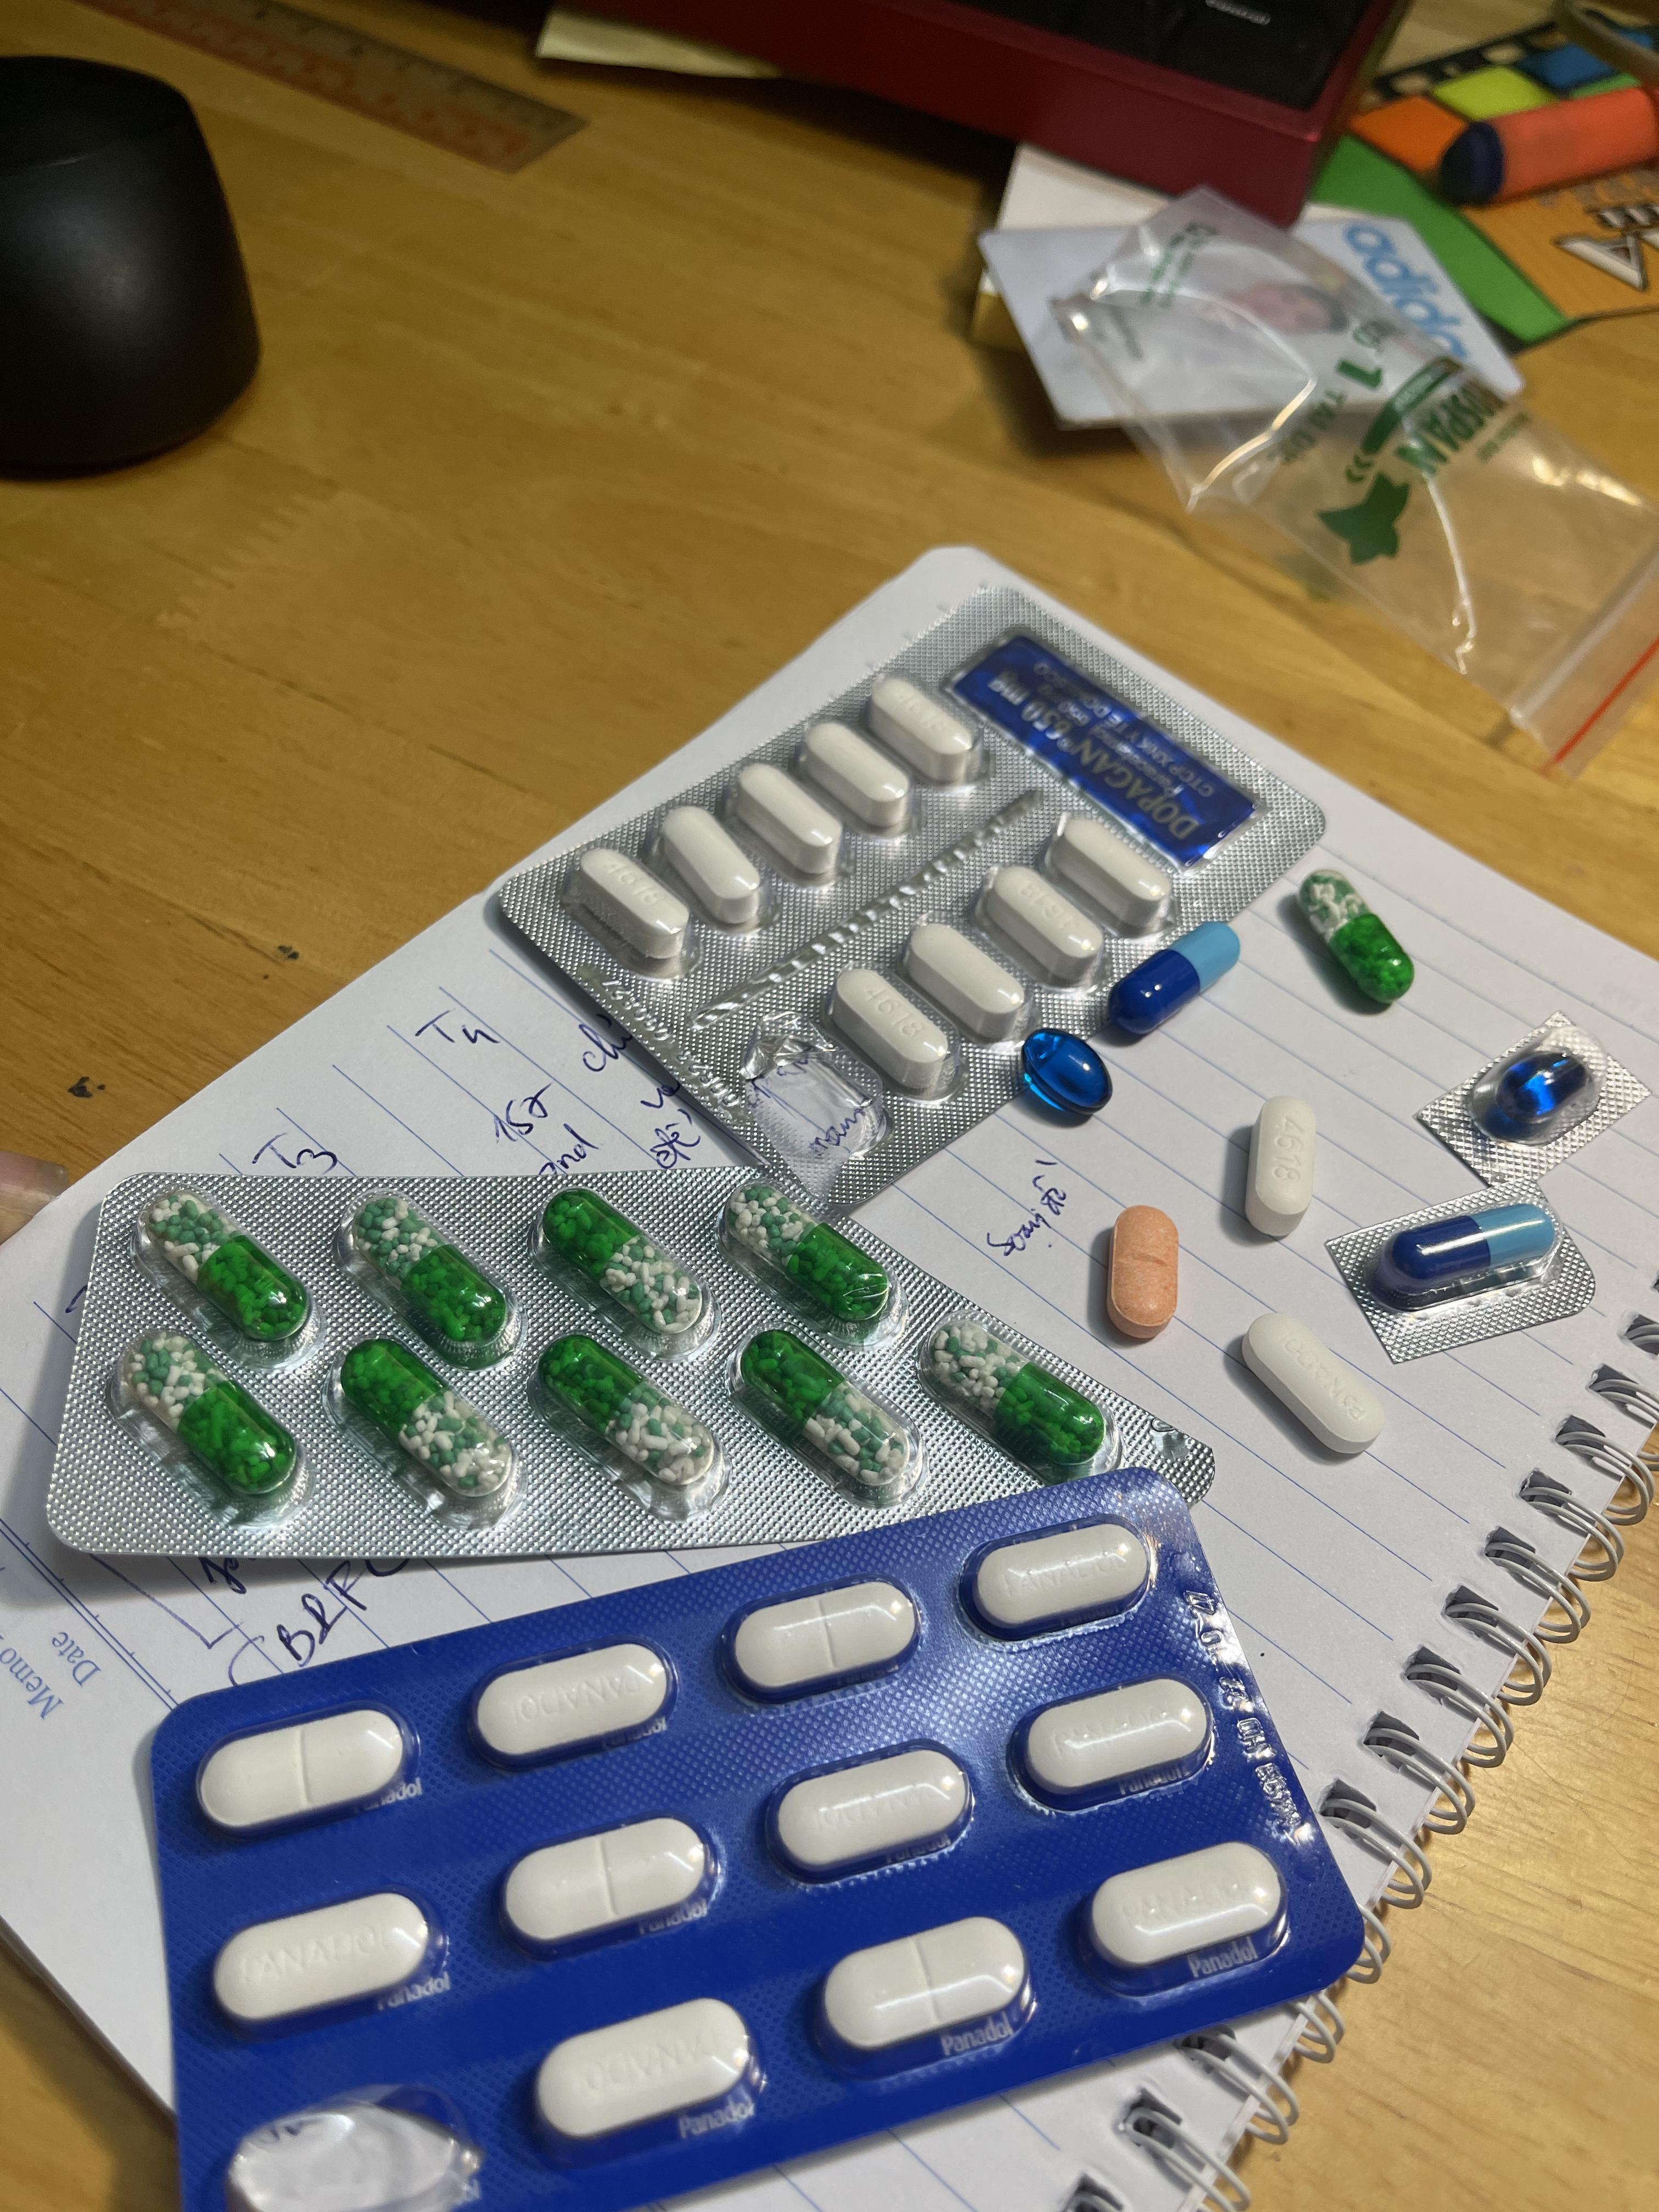Lincomyxin_500mg: (1018, 1029, 1114, 1115), (1493, 1054, 1582, 1123)
Loratadine_10mg: (1107, 1205, 1180, 1336)
Paracetamol_350mg: (532, 1996, 769, 2165), (812, 1918, 1030, 2073), (211, 1892, 441, 2038), (502, 1817, 725, 1958), (197, 1703, 415, 1841), (467, 1641, 687, 1770), (765, 1743, 965, 1881), (1086, 1844, 1279, 1980), (1021, 1677, 1208, 1804), (723, 1581, 913, 1700), (964, 1519, 1147, 1637), (1244, 1313, 1385, 1453)
Paracetamol_500mg: (826, 965, 955, 1096), (568, 843, 690, 967), (906, 921, 1026, 1043), (1049, 812, 1169, 930), (979, 864, 1101, 979), (655, 805, 769, 927), (866, 672, 985, 787), (732, 761, 845, 881), (802, 719, 911, 817), (1248, 1099, 1316, 1230)
Paracetamol_650mg: (131, 1336, 298, 1501), (542, 1336, 716, 1489), (727, 1183, 901, 1331), (354, 1198, 514, 1359), (746, 1334, 911, 1487), (340, 1341, 505, 1494), (143, 1190, 307, 1343), (545, 1191, 713, 1341), (936, 1322, 1103, 1460), (1295, 874, 1412, 1005)
pill: (1371, 1202, 1554, 1299), (1107, 918, 1243, 1038)
